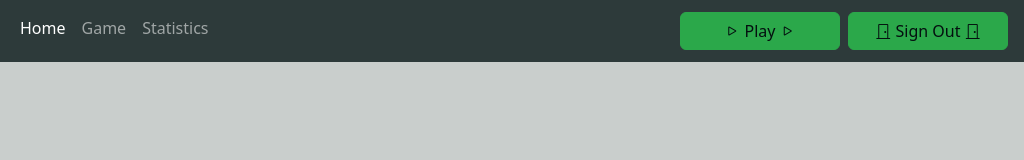
it: render game page buttons when navigating to /game in Navbar
The width and height of the screenshot is (1024, 160).
Click the link "Play": (760, 31) [680,12,840,50]
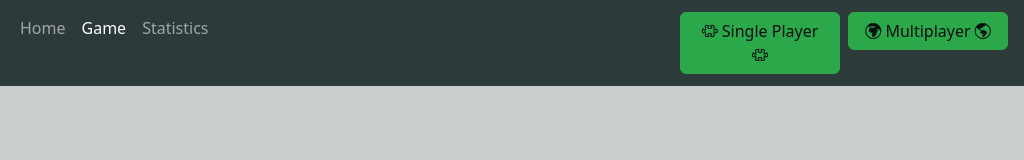
Result: the link "Single Player" is shown at [680,12,840,74]
